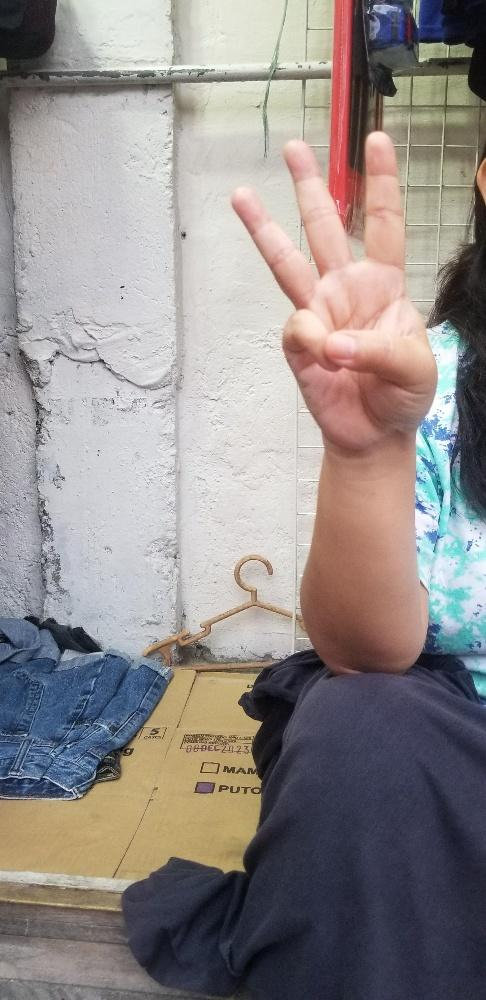w: (227, 127, 437, 449)
